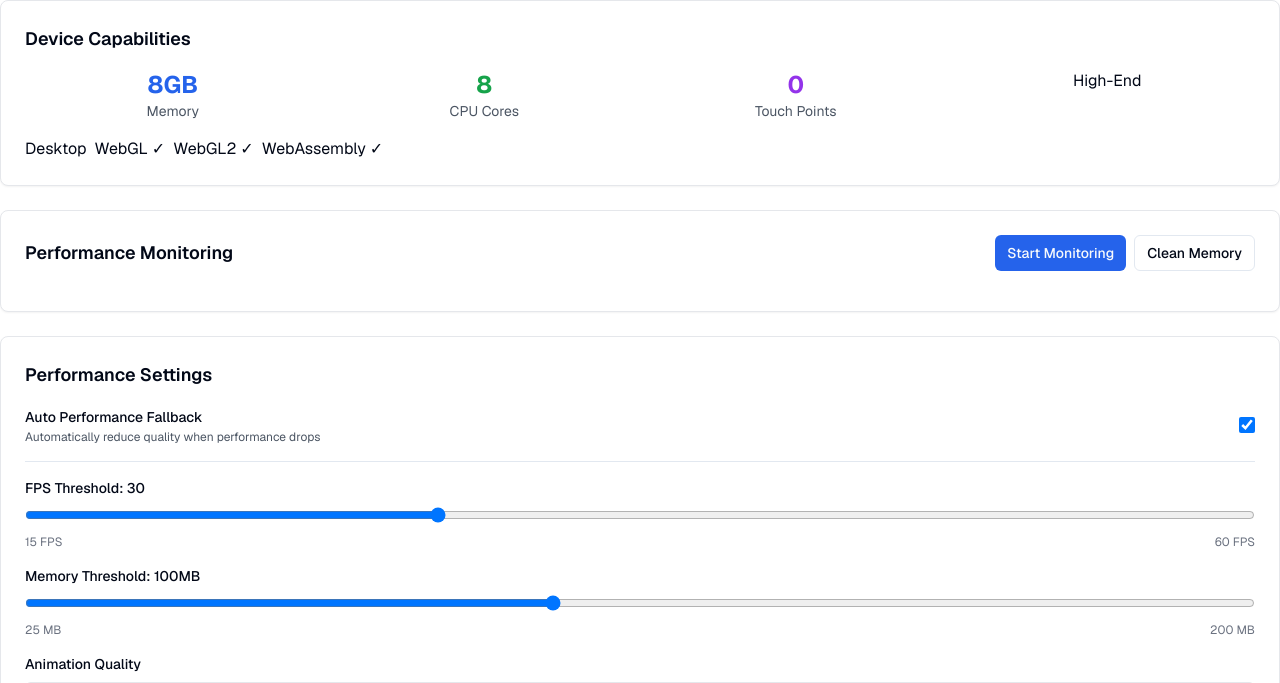
it: PerformanceSettings › starts and stops monitoring
Click the button "Start Monitoring".
click(1061, 253)  # box [995, 235, 1126, 271]
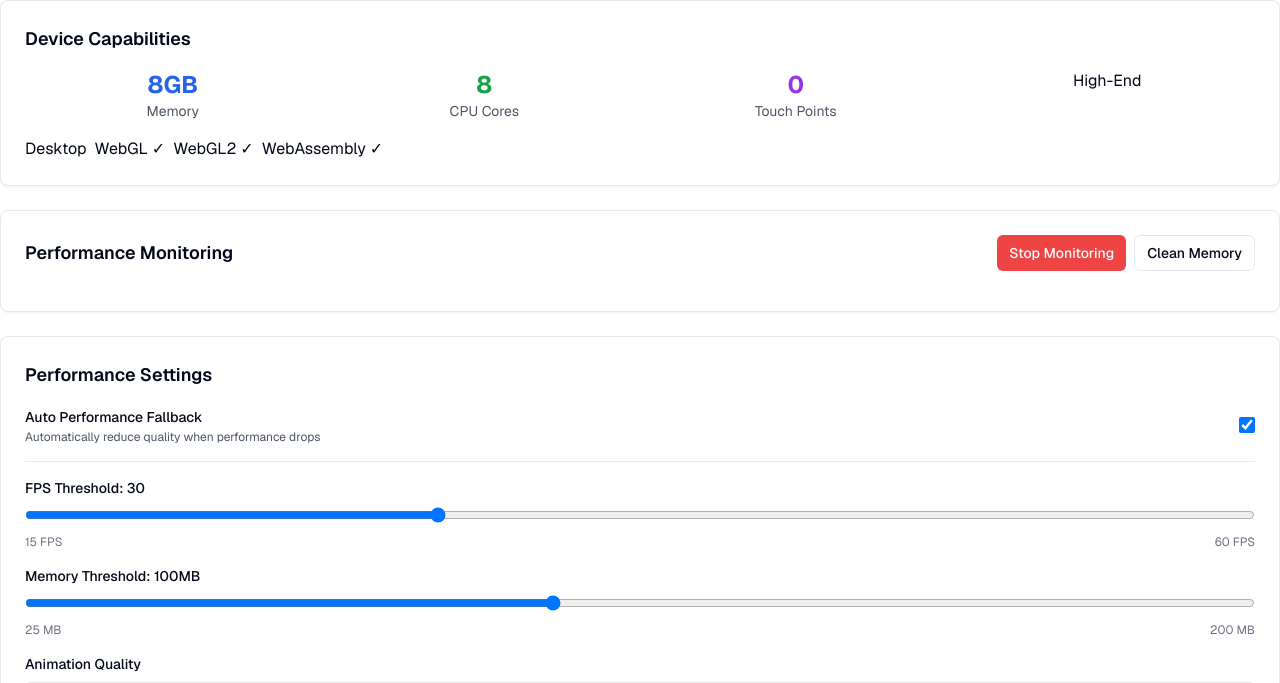
Result: the button "Stop Monitoring" is shown at [997, 235, 1126, 271]
